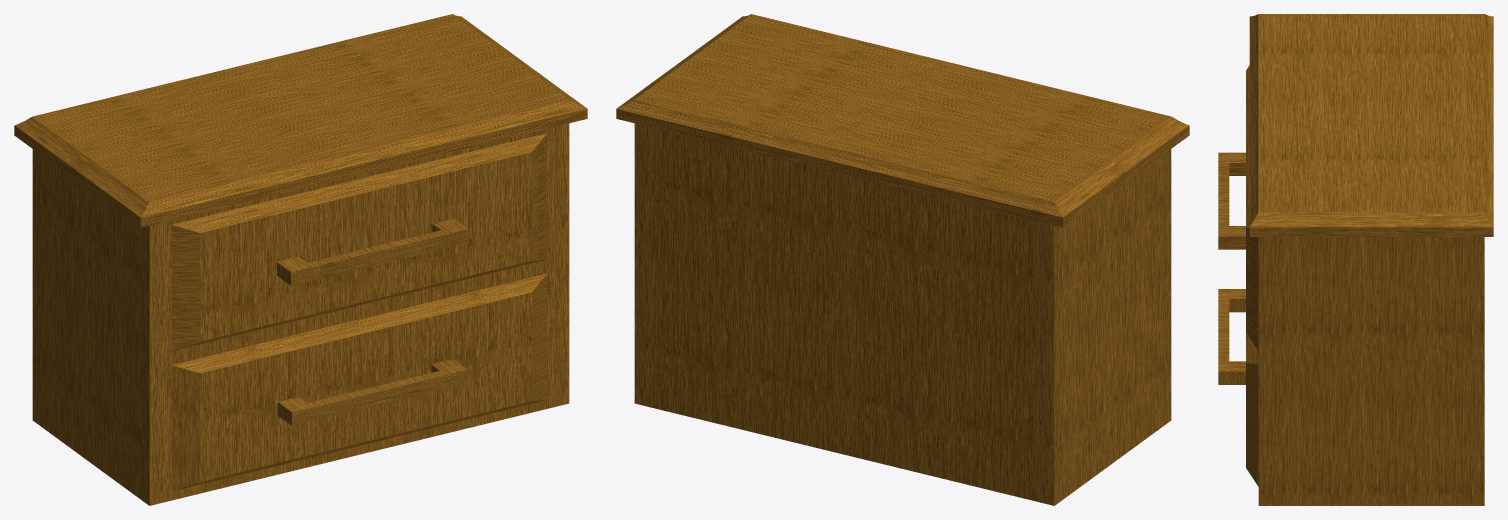
Rendered from ChestDrawers.FBX.
The picture shows the model from 3 angles, left to right: view 1: azimuth 30°, elevation 25°; view 2: azimuth 150°, elevation 25°; view 3: azimuth 270°, elevation 25°; orthographic projection. The views are drawn at different scales.
Visible parts, largest first — view 1: Box001; view 2: Box001; view 3: Box001.
Boxes of the visible parts, x1,y1,x2,y2 form: Box001: [14, 14, 587, 505]; Box001: [616, 14, 1189, 505]; Box001: [1218, 14, 1493, 505].
Size of the model in its own units: 52.45 by 34.07 by 28.93.
1 material, 1 textured.
